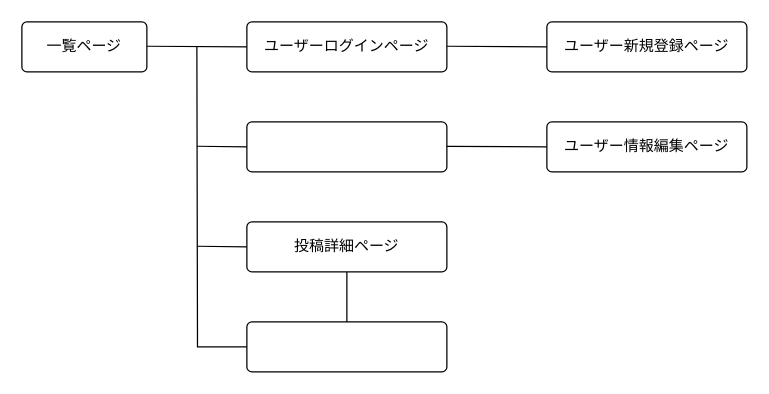
The diagram is 769 pixels wide and 394 high, and some of its shapes have lost their labels. The centre of each missing label's shape, as x and y in pixels:
"ユーザーマイページ" goes at [346,146].
"新規投稿ページ" goes at [346,346].
